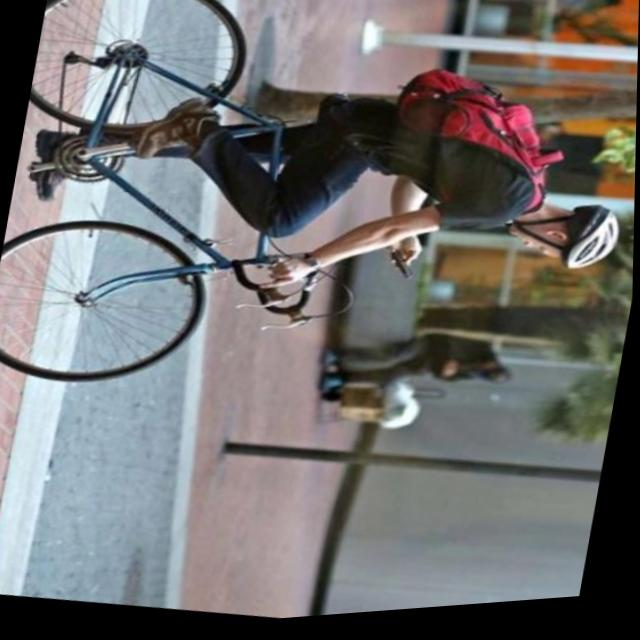USING_MOBILE: (377, 180, 628, 317)
WITH_HELMET: (566, 210, 621, 283)
